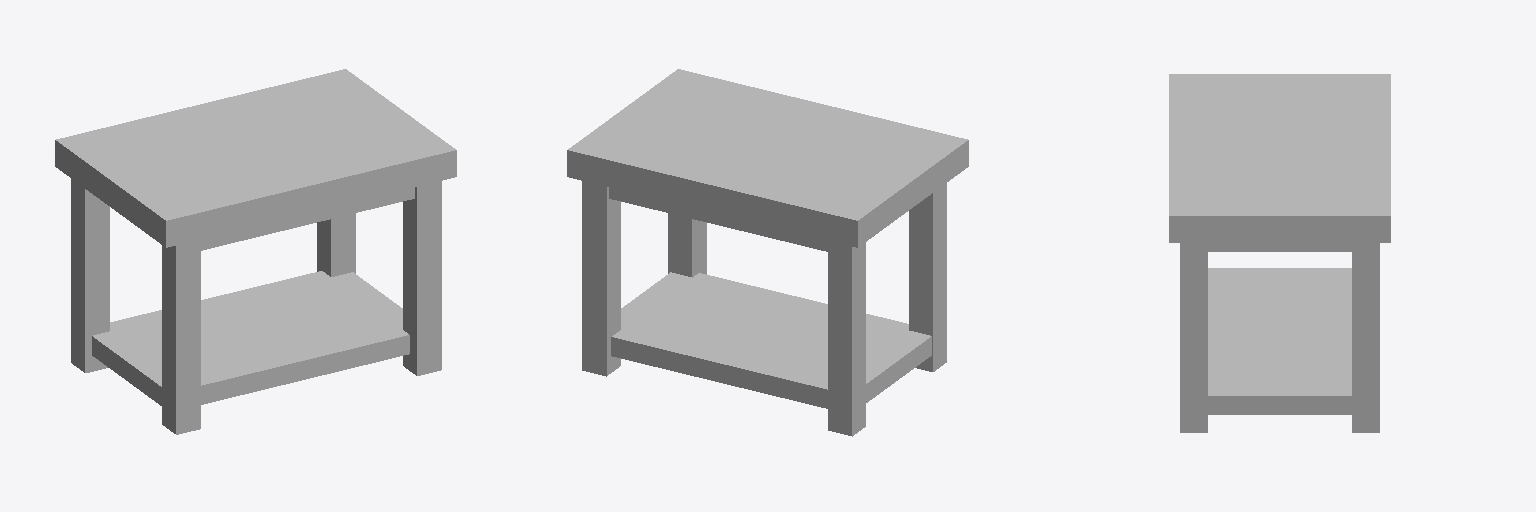
Rendered from table2.obj.
3 views of the same model, side by side, from view 1: azimuth 30°, elevation 25°; view 2: azimuth 150°, elevation 25°; view 3: azimuth 270°, elevation 25° (orthographic).
Parts seen in each view (by area): view 1: table_Cube.005; view 2: table_Cube.005; view 3: table_Cube.005.
Boxes of the visible parts, x1=… form: table_Cube.005: x1=55, y1=69, x2=456, y2=434; table_Cube.005: x1=567, y1=69, x2=968, y2=436; table_Cube.005: x1=1169, y1=74, x2=1390, y2=432.
Bounding box in the file's own units: 12.1 × 8.84 × 8.